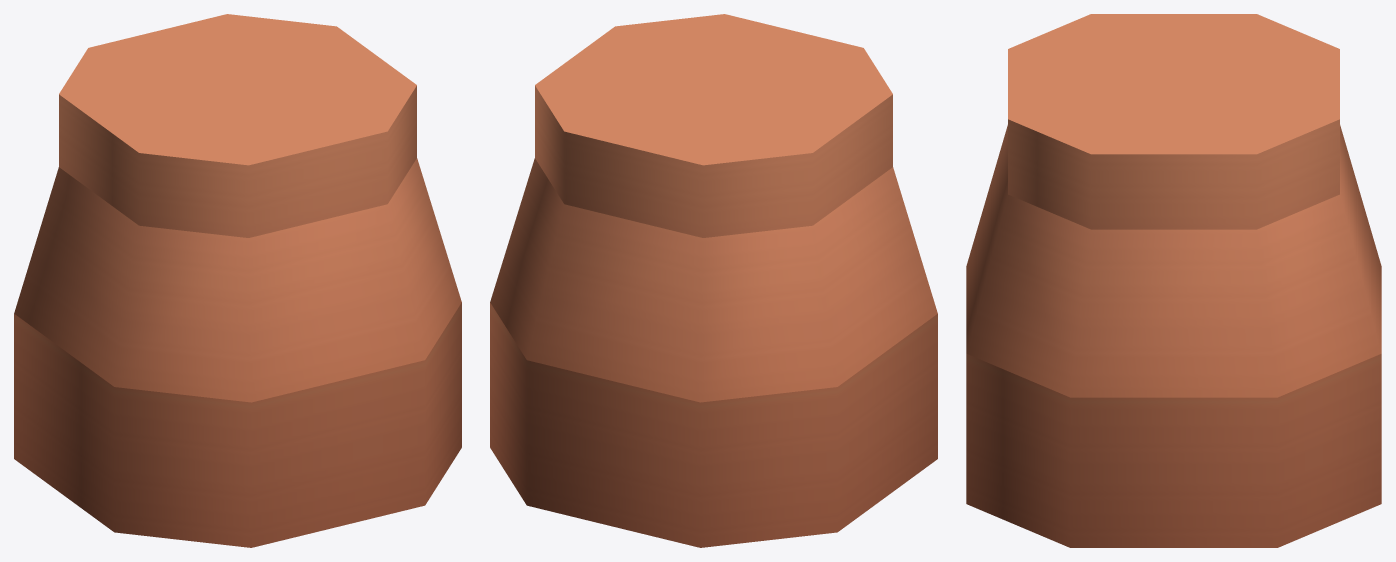
Rendered from support-low-bottom.glb.
3 renders of one model, left to right at view 1: azimuth 30°, elevation 25°; view 2: azimuth 150°, elevation 25°; view 3: azimuth 270°, elevation 25°, orthographic. The views are drawn at different scales.
Visible parts, largest first — view 1: support-low-bottom; view 2: support-low-bottom; view 3: support-low-bottom.
Part boxes in pixels (<box>): support-low-bottom: <box>14,14,461,547</box>; support-low-bottom: <box>490,14,937,547</box>; support-low-bottom: <box>966,14,1381,547</box>.
Size of the model in its own units: 0.5 by 0.5 by 0.5.
1 material, 1 textured.
